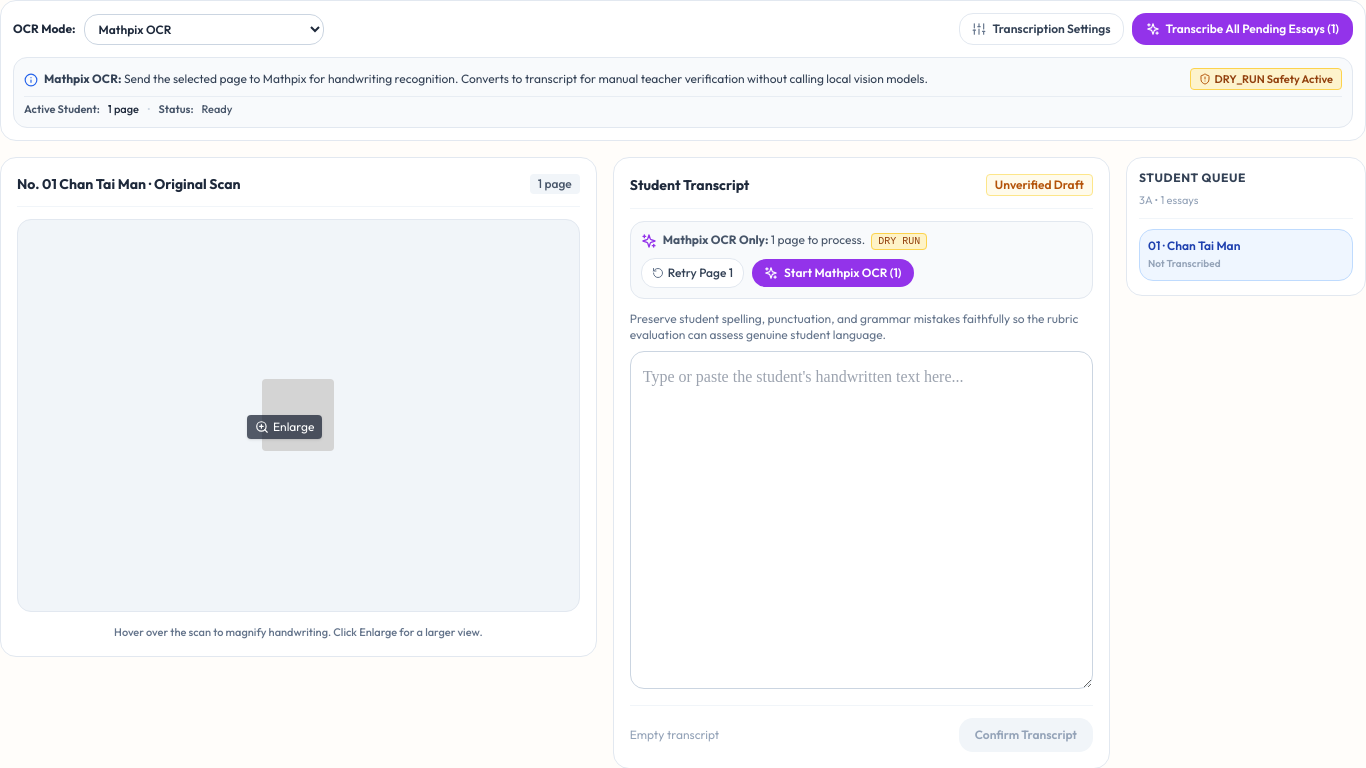
it: Stage 4 Transcription Settings & Verification Robustness › TranscriptVerificationPanel (Stage 4) Initialization & Safety › allows opening, editing and saving settings modal from toolbar
Later steps or results of the test are not shown.
# Open Settings Modal
Click the button "Transcription Settings". click: (1042,29)
box: [959,13,1124,45]
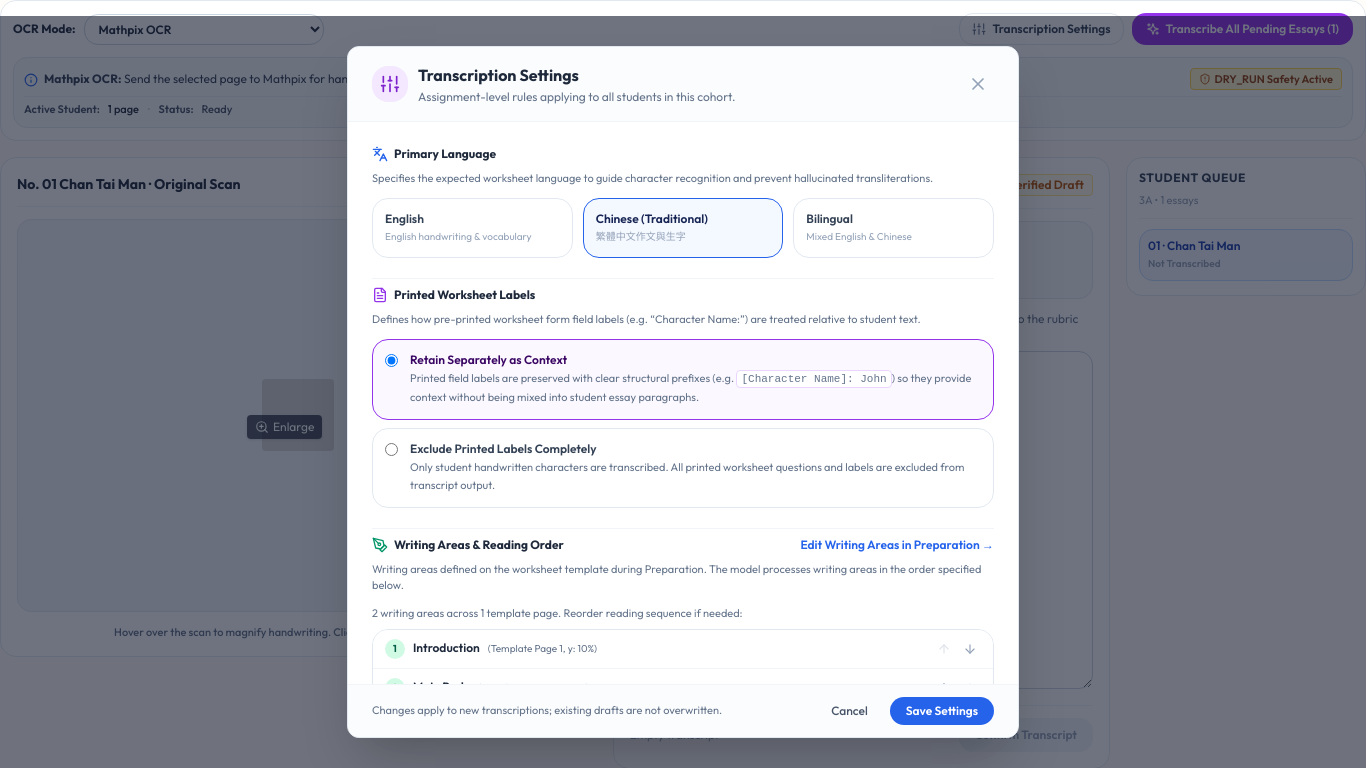
Check: the text "Assignment-level rules applying to all students in this cohort." is shown, box [418,89,736,105]
